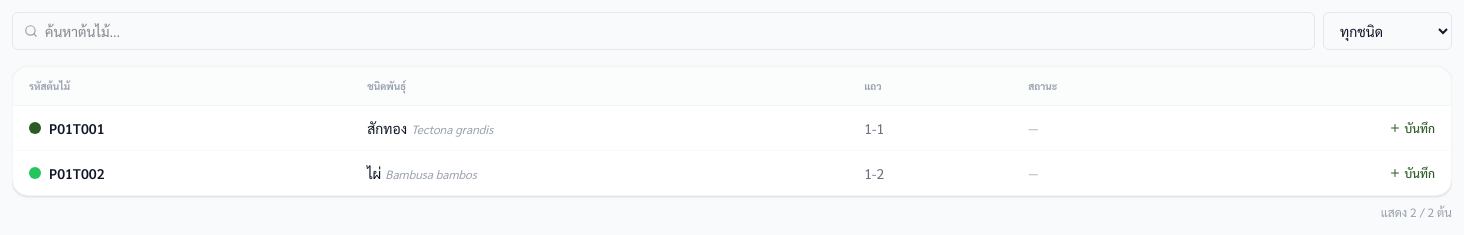
Test case: TreeTable › should filter trees by species name
The image size is (1464, 235).
Type "สักทอง" into the field with placeholder "ค้นหาต้นไม้..." at (664, 31), box [12,12,1315,50]
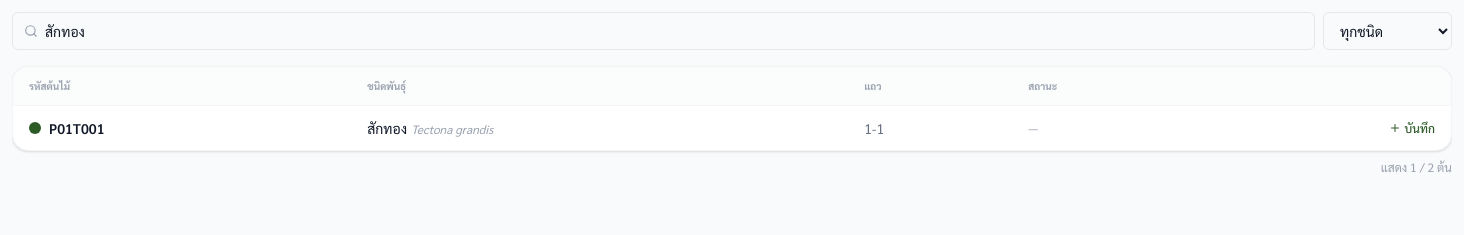
Check: the text "P01T001" is shown, box [29,119,104,137]
Check: the text "P01T002" is gone
